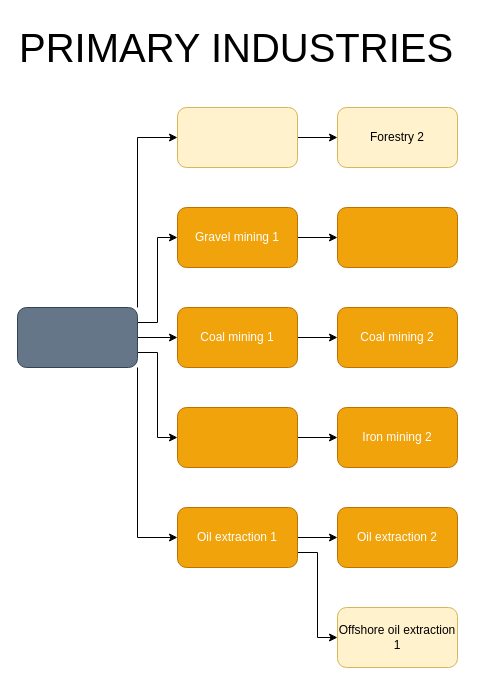
This 495x685 diagram has some shape labels left out. The shapes that lost their labels are listed below. From the top down, each one's centre as x and y in pixels, then its label:
the point at 237,137: Forestry 1
the point at 397,237: Gravel mining 2
the point at 77,337: Traditional resource extraction methods
the point at 237,437: Iron mining 1
